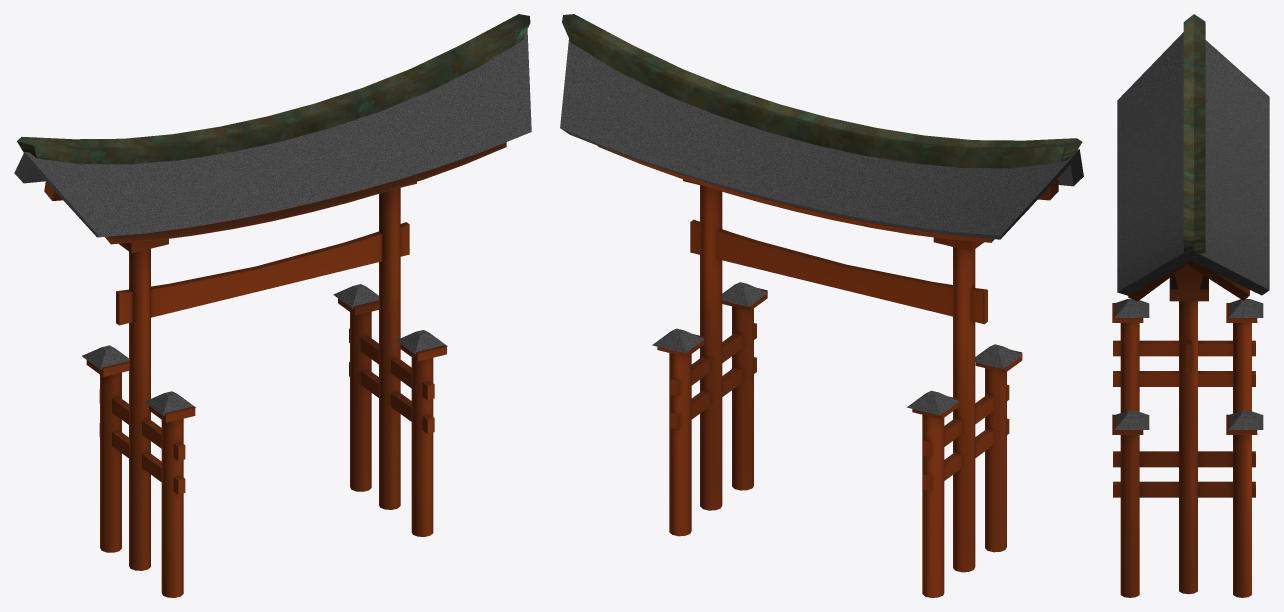
Rendered from shrine.FBX.
3 renders of one model, left to right at view 1: azimuth 30°, elevation 25°; view 2: azimuth 150°, elevation 25°; view 3: azimuth 270°, elevation 25°, orthographic. The views are drawn at different scales.
Parts seen in each view (by area): view 1: column03, Line02, Object01, shrine roof sma05, shrine roof sma03; view 2: column03, Line02, Object01, shrine roof sma04, shrine roof sma06, shrine roof sma05, shrine roof sma03; view 3: Line02, column03, Object01, shrine roof sma03, shrine roof sma04, shrine roof sma06, shrine roof sma05.
Part boxes in pixels (left/top/right/bottom): column03: left=44, top=142, right=506, bottom=597; Line02: left=14, top=29, right=531, bottom=237; Object01: left=17, top=14, right=530, bottom=164; shrine roof sma05: left=144, top=391, right=195, bottom=415; shrine roof sma03: left=396, top=330, right=447, bottom=354; column03: left=597, top=145, right=1058, bottom=597; Line02: left=560, top=39, right=1083, bottom=239; Object01: left=562, top=14, right=1082, bottom=168; shrine roof sma04: left=652, top=328, right=704, bottom=353; shrine roof sma06: left=907, top=390, right=959, bottom=415; shrine roof sma05: left=975, top=344, right=1022, bottom=368; shrine roof sma03: left=722, top=282, right=767, bottom=306; Line02: left=1117, top=32, right=1269, bottom=295; column03: left=1112, top=261, right=1257, bottom=597; Object01: left=1183, top=14, right=1205, bottom=253; shrine roof sma03: left=1114, top=410, right=1149, bottom=429; shrine roof sma04: left=1228, top=410, right=1263, bottom=429; shrine roof sma06: left=1228, top=299, right=1263, bottom=317; shrine roof sma05: left=1114, top=299, right=1149, bottom=317.
Size of the model in its own units: 388 by 330 by 113.
3 materials, 3 textured.
